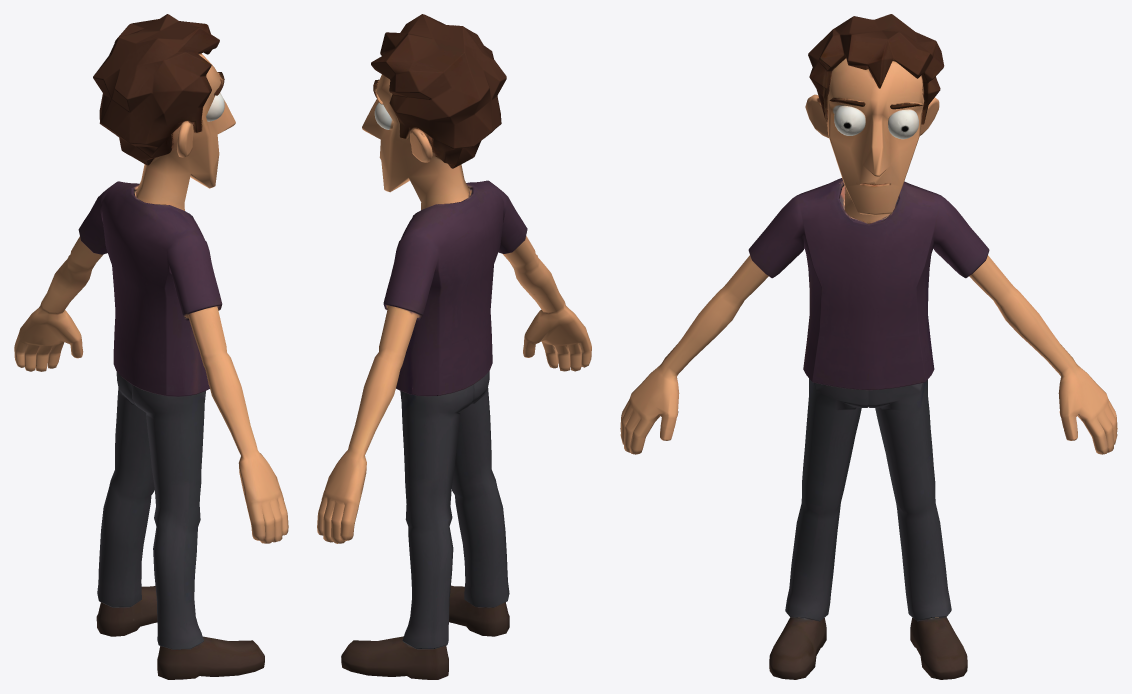
3 views of the same model, side by side, from view 1: azimuth 30°, elevation 25°; view 2: azimuth 150°, elevation 25°; view 3: azimuth 270°, elevation 25° (orthographic).
Parts seen in each view (by area): view 1: tripo_node_646c8c7a; view 2: tripo_node_646c8c7a; view 3: tripo_node_646c8c7a.
Part boxes in pixels (x1=…): tripo_node_646c8c7a: x1=14, y1=14, x2=288, y2=679; tripo_node_646c8c7a: x1=317, y1=14, x2=591, y2=679; tripo_node_646c8c7a: x1=620, y1=14, x2=1117, y2=679.
Bounding box in the file's own units: 22.12 × 99.95 × 71.44.
1 material, 1 textured.
